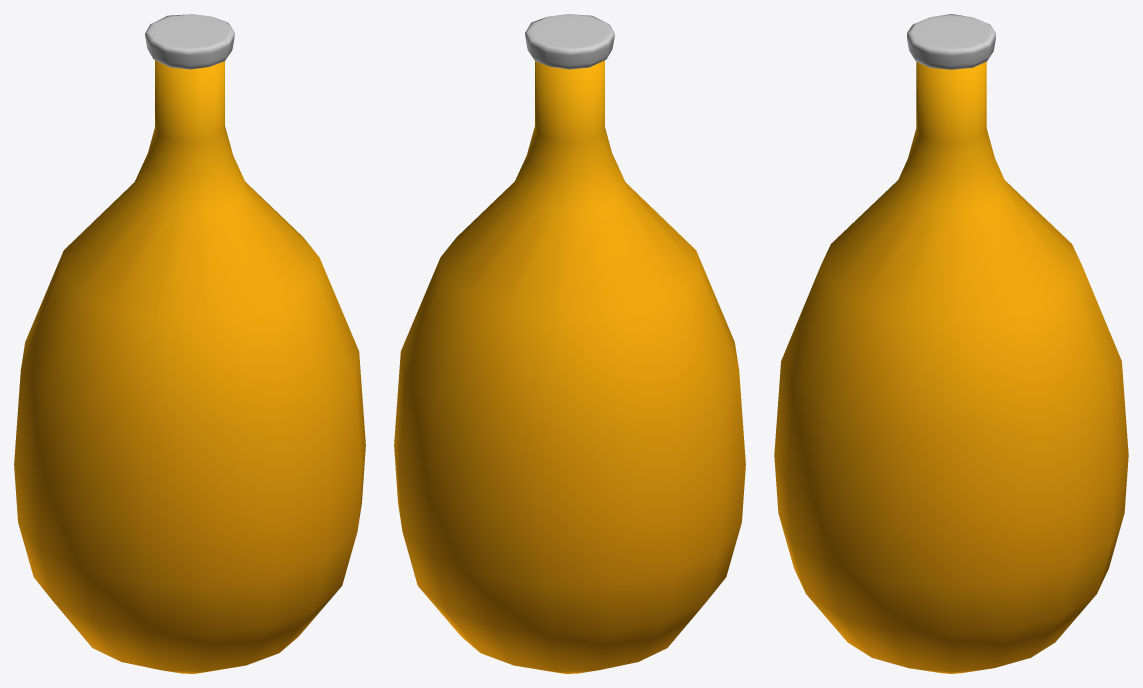
File: gorchiza.fbx
3 views of the same model, side by side, from view 1: azimuth 30°, elevation 25°; view 2: azimuth 150°, elevation 25°; view 3: azimuth 270°, elevation 25° (orthographic).
Visible parts, largest first — view 1: Cylinder.001, Retopo_Cylinder.001; view 2: Cylinder.001, Retopo_Cylinder.001; view 3: Cylinder.001, Retopo_Cylinder.001.
Boxes of the visible parts, x1,y1,x2,y2 form: Cylinder.001: (14, 60, 365, 673); Retopo_Cylinder.001: (145, 14, 234, 69); Cylinder.001: (394, 60, 745, 673); Retopo_Cylinder.001: (525, 14, 614, 69); Cylinder.001: (774, 62, 1128, 673); Retopo_Cylinder.001: (907, 14, 995, 69).
Size of the model in its own units: 834 by 1635 by 834.
